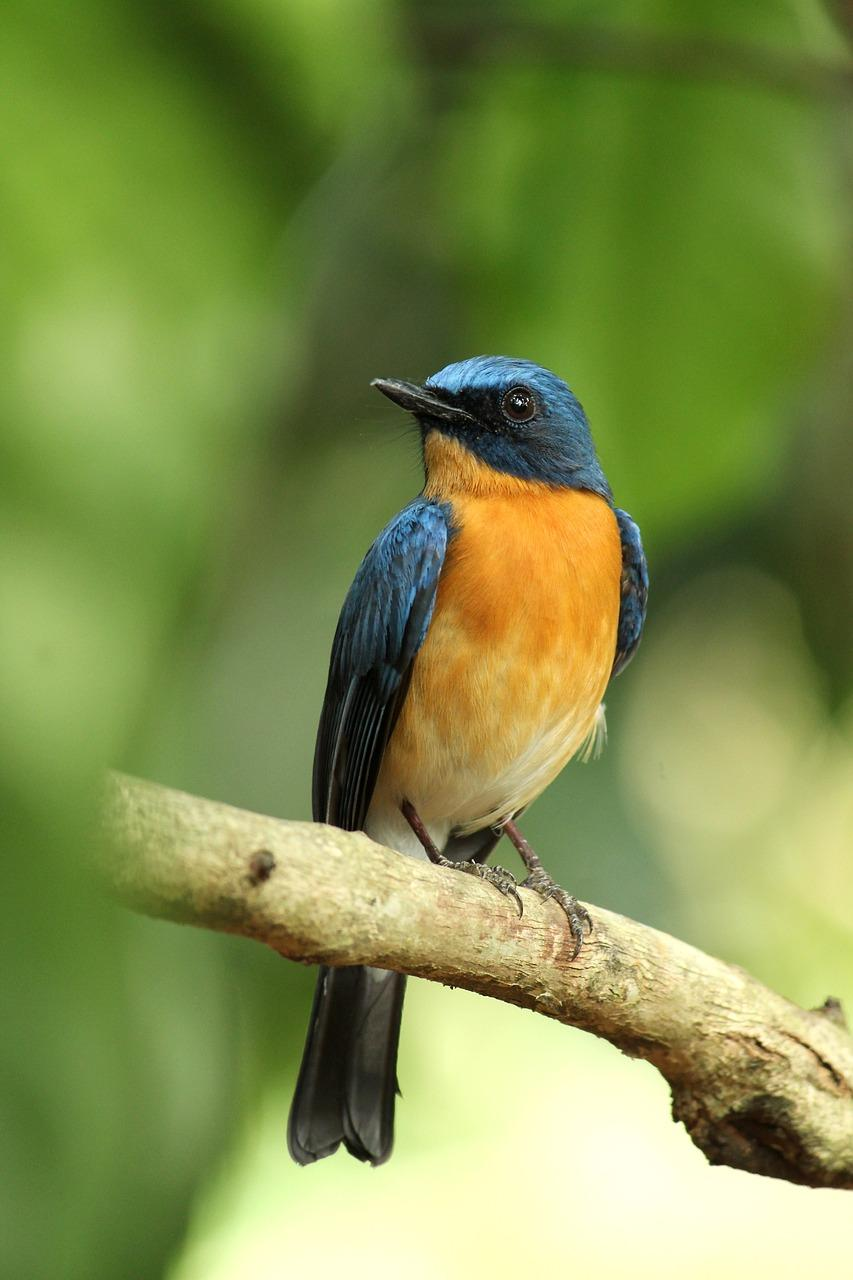bird: (312, 356, 648, 938), (288, 968, 404, 1164)
